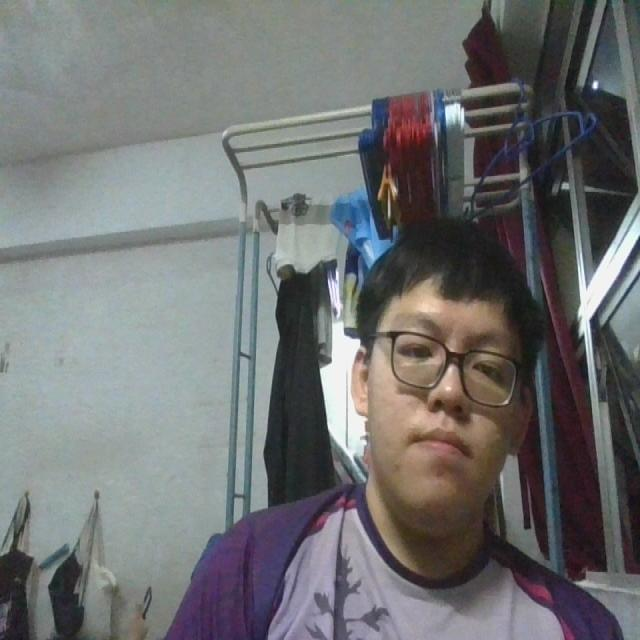person_without_labcoat: (167, 219, 621, 639)
